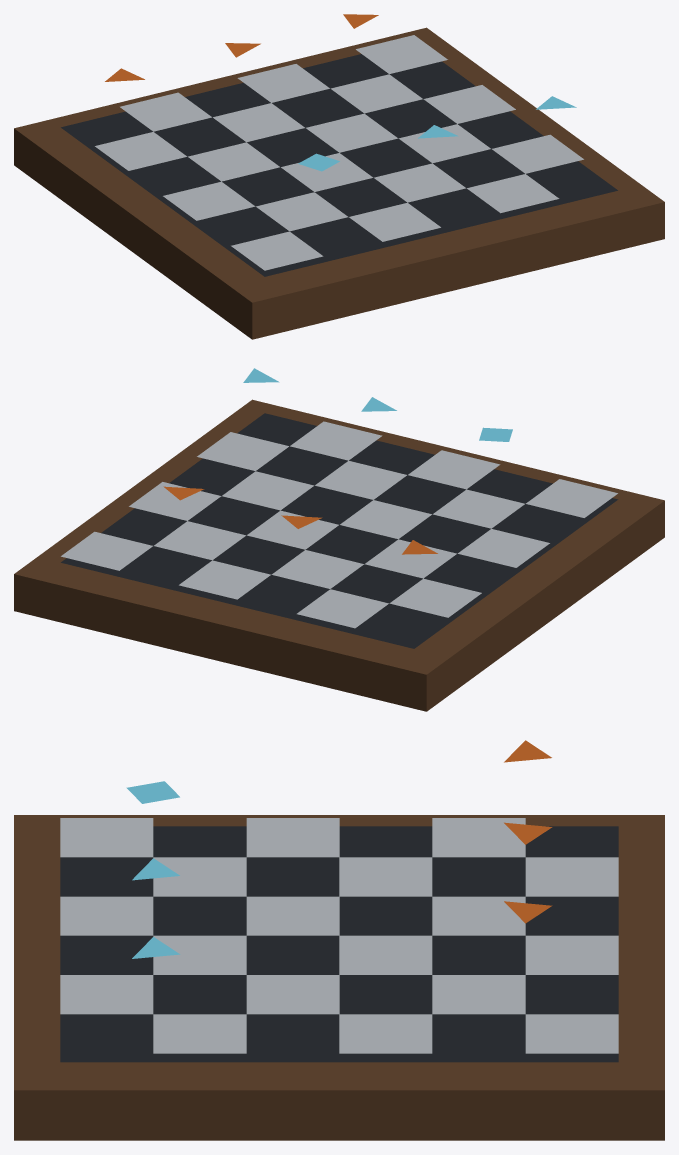
File: kirgatz-set.lod.glb
3 renders of one model, top to bottom at view 1: azimuth 30°, elevation 25°; view 2: azimuth 150°, elevation 25°; view 3: azimuth 270°, elevation 25°, orthographic. The views are drawn at different scales.
Parts seen in each view (by area): view 1: m; view 2: m; view 3: m.
Part boxes in pixels (x1=…): m: x1=14, y1=14, x2=664, y2=339; m: x1=14, y1=368, x2=664, y2=711; m: x1=14, y1=740, x2=664, y2=1140.
Bounding box in the file's own units: 0.14 × 0.036 × 0.14.
